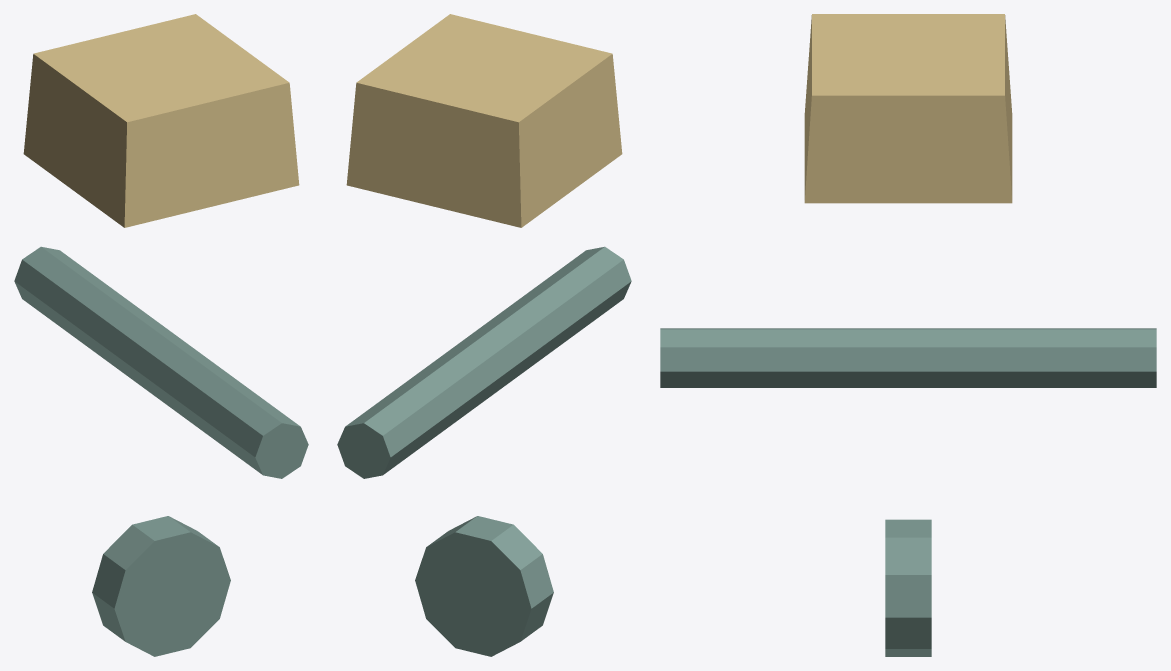
Rendered from standing_lamp_bronze.glb.
3 renders of one model, left to right at view 1: azimuth 30°, elevation 25°; view 2: azimuth 150°, elevation 25°; view 3: azimuth 270°, elevation 25°, orthographic. The views are drawn at different scales.
Visible parts, largest first — view 1: part_2, part_1, part_0; view 2: part_2, part_1, part_0; view 3: part_2, part_1, part_0.
Part boxes in pixels (box(x1,y1,x2,y2)): part_2: box(23, 14, 299, 227); part_1: box(14, 246, 308, 478); part_0: box(92, 516, 230, 656); part_2: box(346, 14, 622, 227); part_1: box(337, 246, 631, 478); part_0: box(415, 516, 553, 656); part_2: box(804, 14, 1012, 203); part_1: box(660, 328, 1156, 387); part_0: box(885, 519, 931, 656).
Size of the model in its own units: 0.36 by 1.13 by 0.86.
